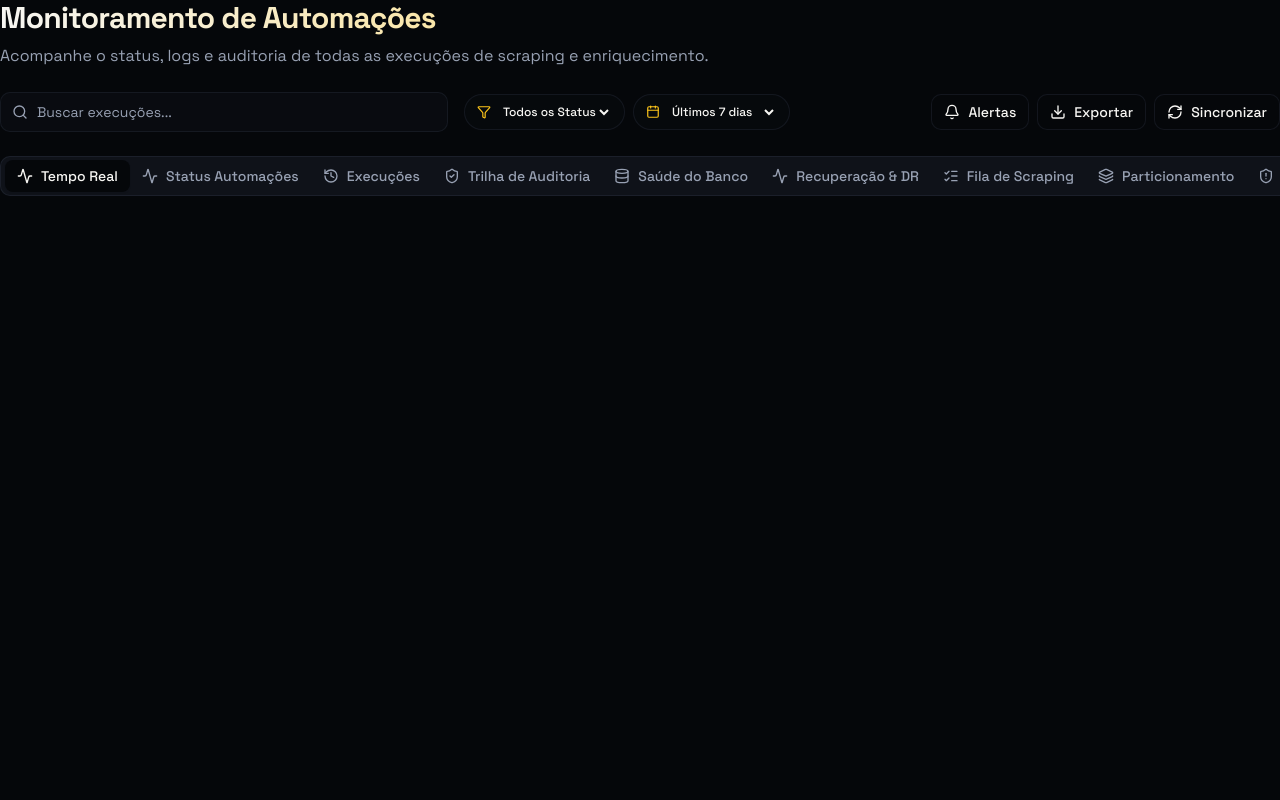
Test case: avisos de erro nas mutacoes (etapa 216) › avisa quando salvar as preferencias de alerta falha
Later steps or results of the test are not shown.
Click the button "Alertas": (980, 112) x1=931 y1=94 x2=1029 y2=130
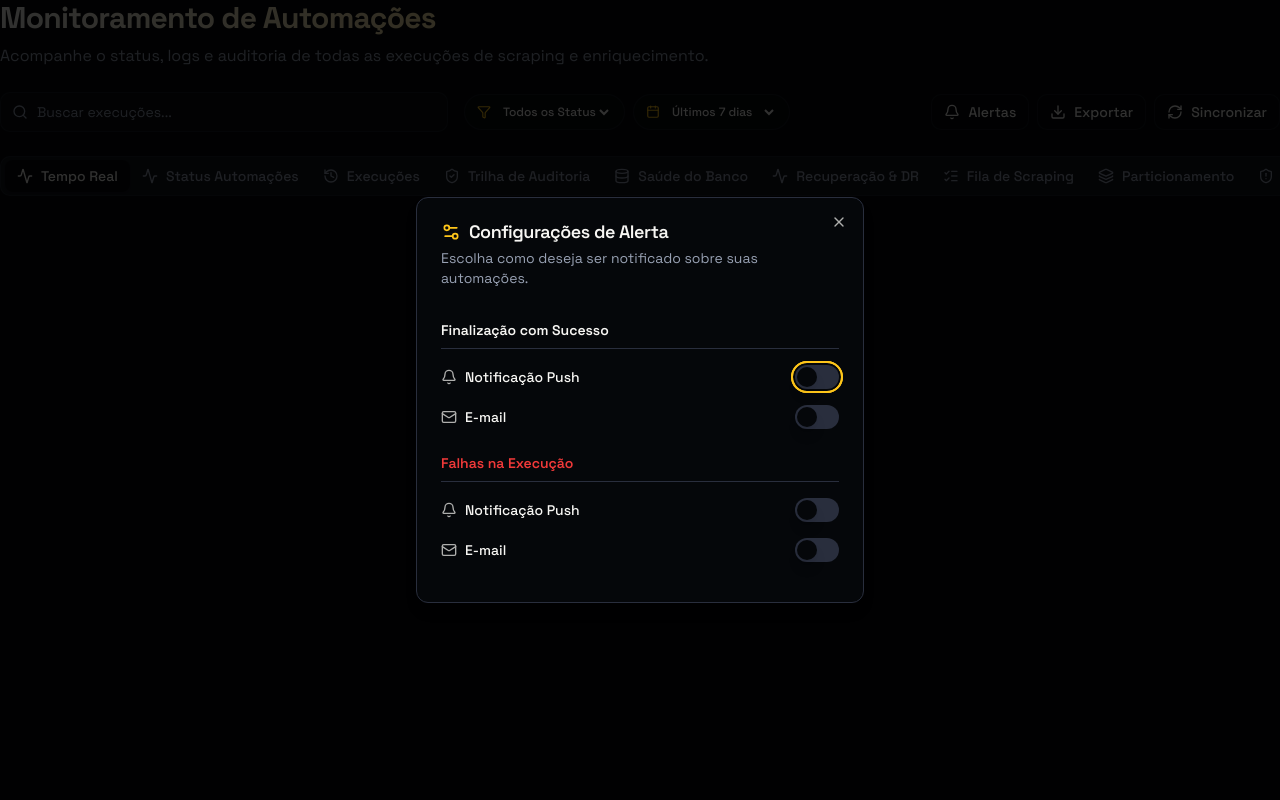
Now the switch with id "succ-push" is shown, box x1=795 y1=365 x2=839 y2=389
